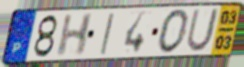4: (122, 11, 147, 56)
8: (33, 14, 59, 59)
H: (54, 12, 95, 58)
I: (98, 12, 116, 56)
O: (156, 9, 191, 56)
U: (185, 8, 221, 54)
